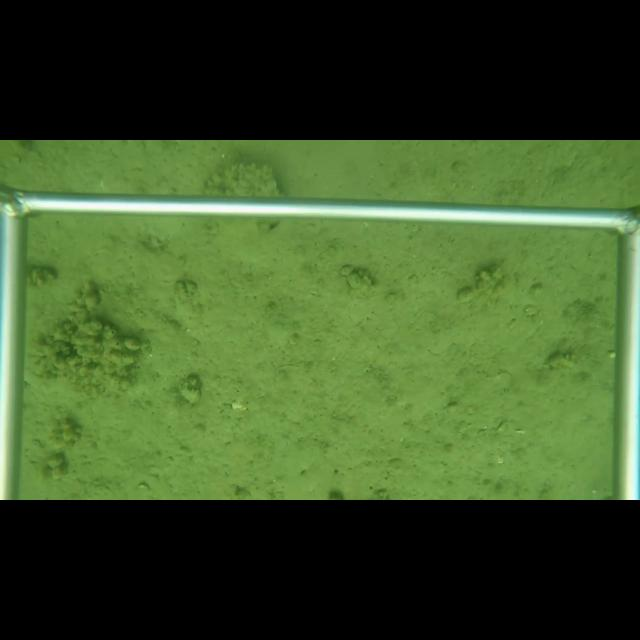Oyster-Closed: (199, 162, 285, 242)
